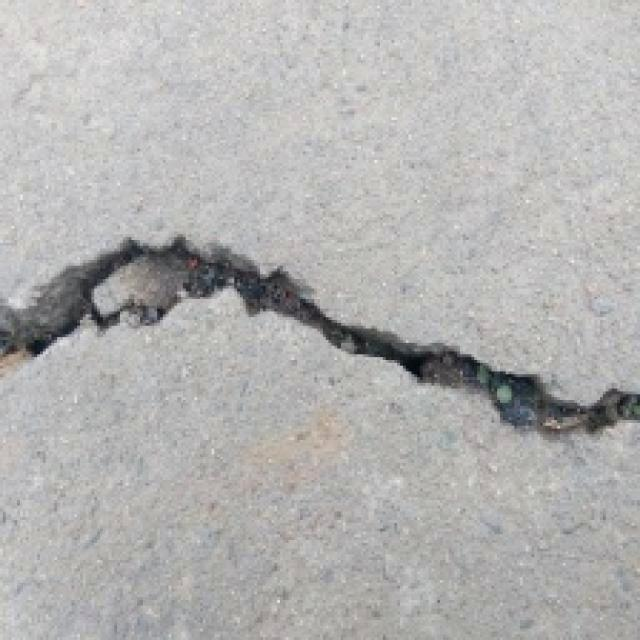SurfaceCrack: (2, 220, 640, 446)
